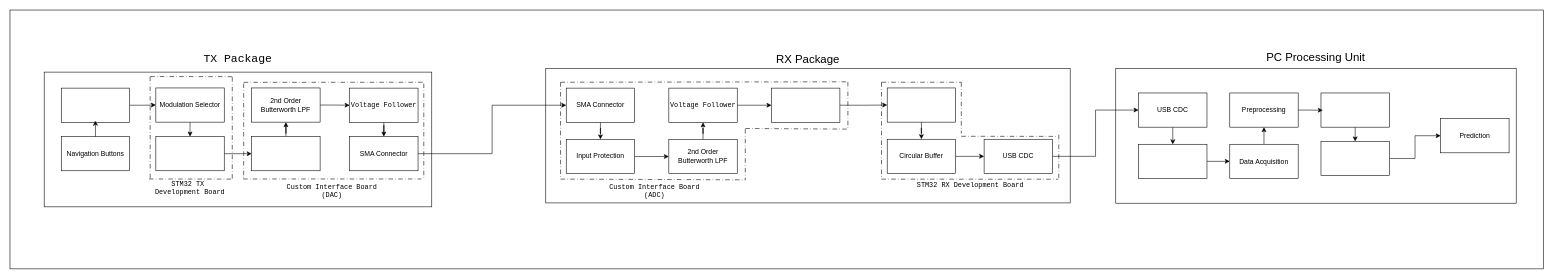
The diagram is 1553 pixels wide and 279 high, and some of its shapes have lost their labels. The centre of each missing label's shape, as x and y in pixels:
Classifier: point 1354,158
Dataset Builder: point 1172,161
DMA: point 921,104
External ADC: point 805,105
External DAC: point 285,153
Feature Extraction: point 1354,109
LCD Display: point 95,105
Signal Generator: point 189,153
